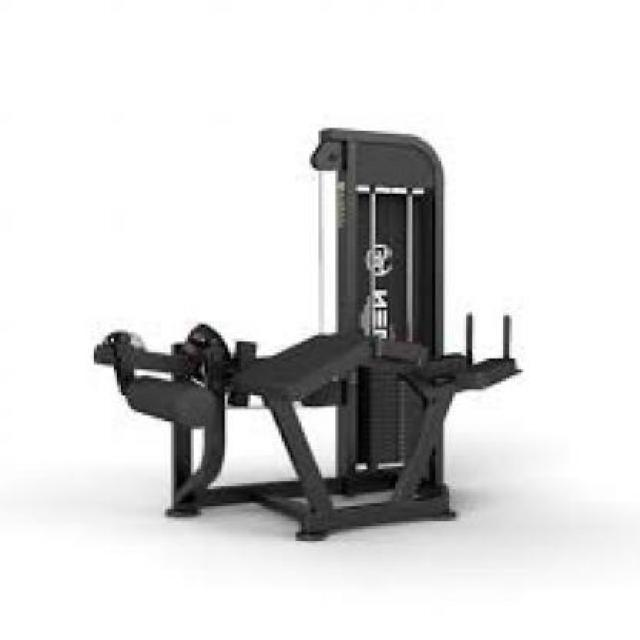reg curl machine: (86, 120, 534, 538)
